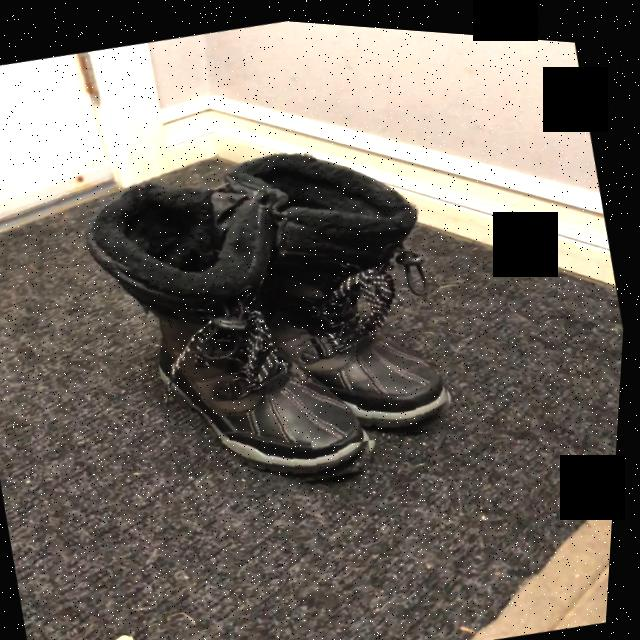shoe: (162, 319, 375, 476), (300, 330, 454, 428)
